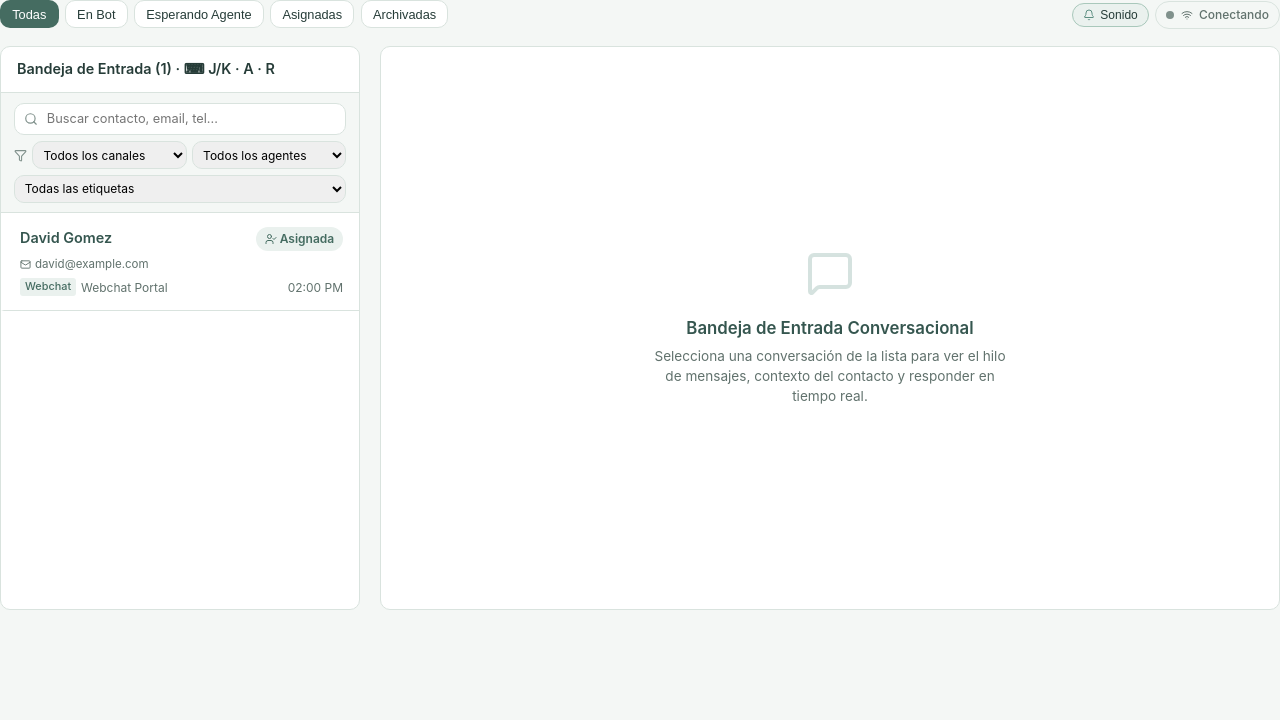
Test: WhatsApp 24-Hour Service Window in ConversationsView › webchat channel is never blocked by 24-hour service window
Click the element with test id "conversation-item": [180, 262] box [1,213,359,311]
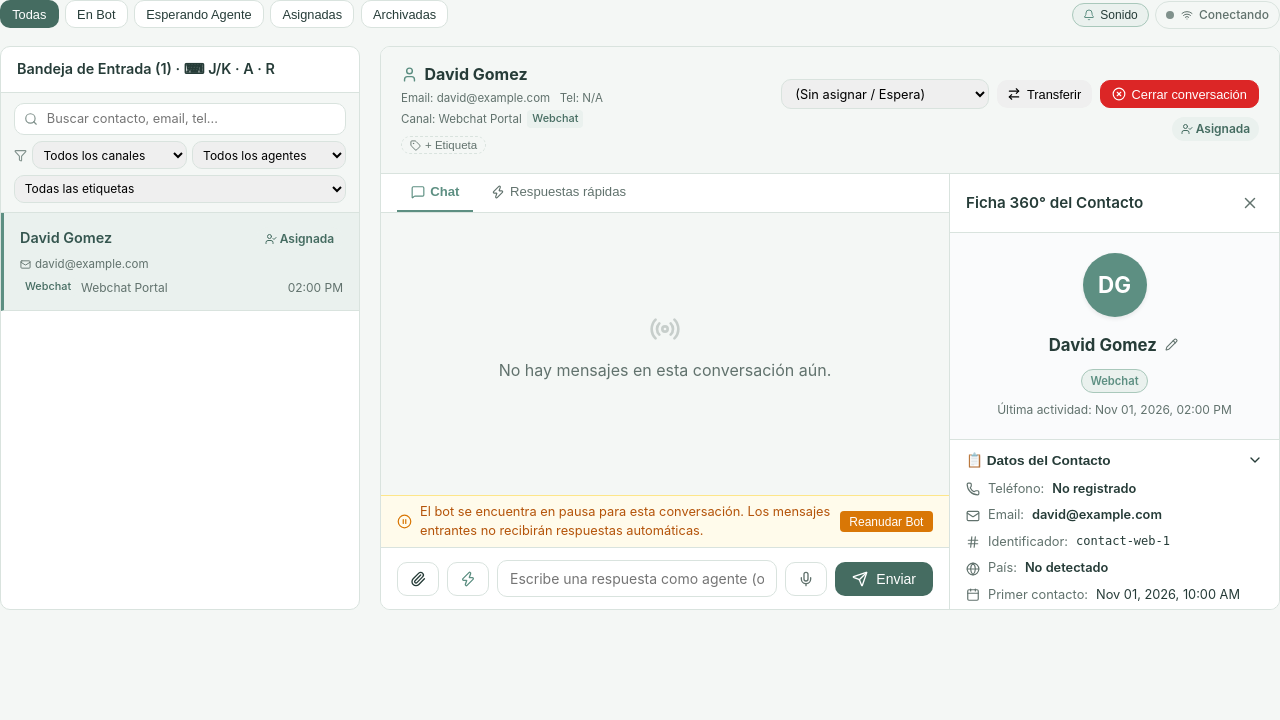
expect the field with test id "agent-reply-input" is enabled: met, box [497,560,777,597]
